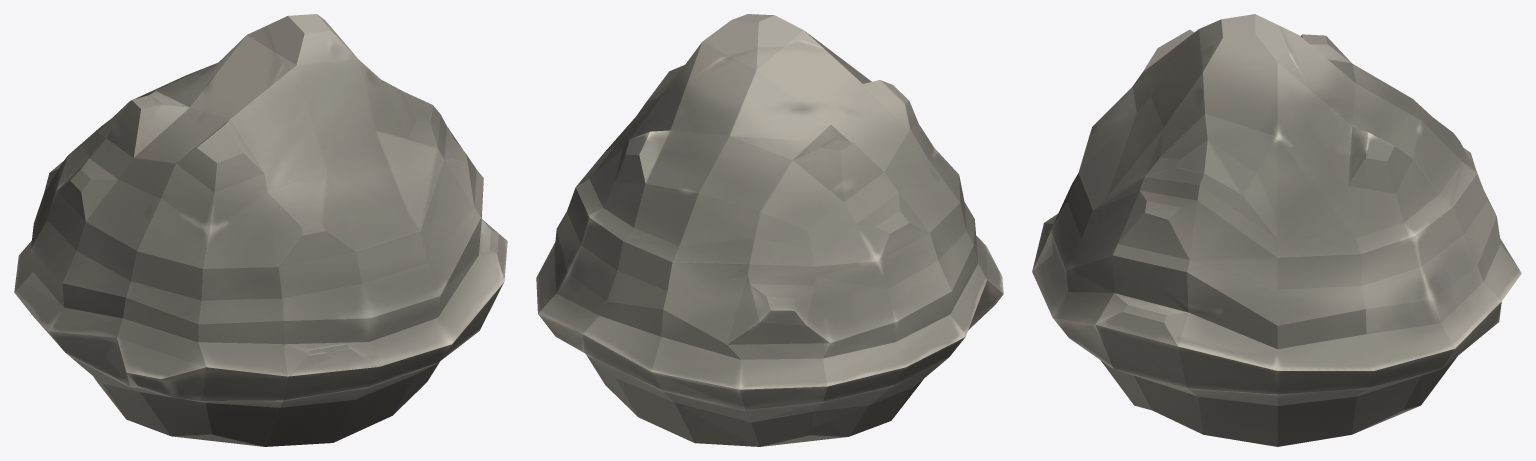
File: crystal_15.glb
3 views of the same model, side by side, from view 1: azimuth 30°, elevation 25°; view 2: azimuth 150°, elevation 25°; view 3: azimuth 270°, elevation 25° (orthographic). The views are drawn at different scales.
Visible parts, largest first — view 1: crystal_15; view 2: crystal_15; view 3: crystal_15.
Boxes of the visible parts, x1,y1,x2,y2 form: crystal_15: (14, 14, 507, 446); crystal_15: (536, 14, 1003, 446); crystal_15: (1032, 14, 1521, 446).
Size of the model in its own units: 1.31 by 1.13 by 1.3.
1 material, 1 textured.
